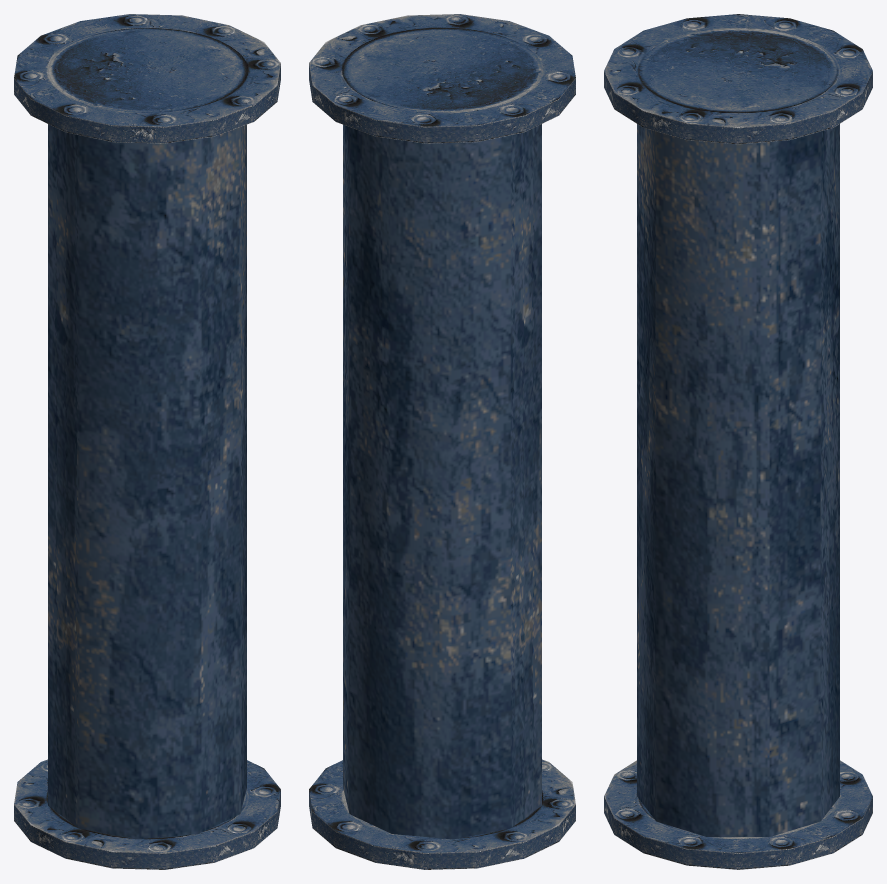
Rendered from 2m_blue.DAE.
3 renders of one model, left to right at view 1: azimuth 30°, elevation 25°; view 2: azimuth 150°, elevation 25°; view 3: azimuth 270°, elevation 25°, orthographic.
Parts seen in each view (by area): view 1: Object366, Object376; view 2: Object366, Object376; view 3: Object366, Object376.
Boxes of the visible parts, x1,y1,x2,y2 form: Object366: (48,124,246,839); Object376: (14,14,280,869); Object366: (343,124,541,839); Object376: (309,14,575,869); Object366: (637,124,839,836); Object376: (604,14,872,869).
Bounding box in the file's own units: 0.6566 × 0.6566 × 2.
